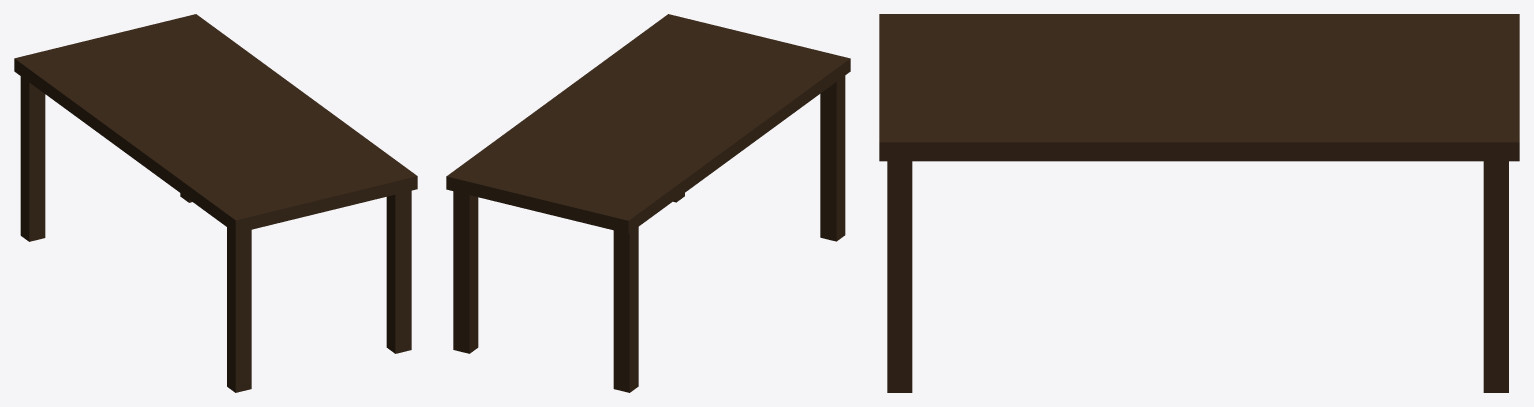
Rendered from WoodTable_2.FBX.
3 renders of one model, left to right at view 1: azimuth 30°, elevation 25°; view 2: azimuth 150°, elevation 25°; view 3: azimuth 270°, elevation 25°, orthographic. The views are drawn at different scales.
Parts seen in each view (by area): view 1: Plane001; view 2: Plane001; view 3: Plane001.
Boxes of the visible parts, left/top/right/bottom form: Plane001: left=14, top=14, right=417, bottom=392; Plane001: left=446, top=14, right=850, bottom=392; Plane001: left=879, top=14, right=1519, bottom=392.
Size of the model in its own units: 27.61 by 25.41 by 58.25.
